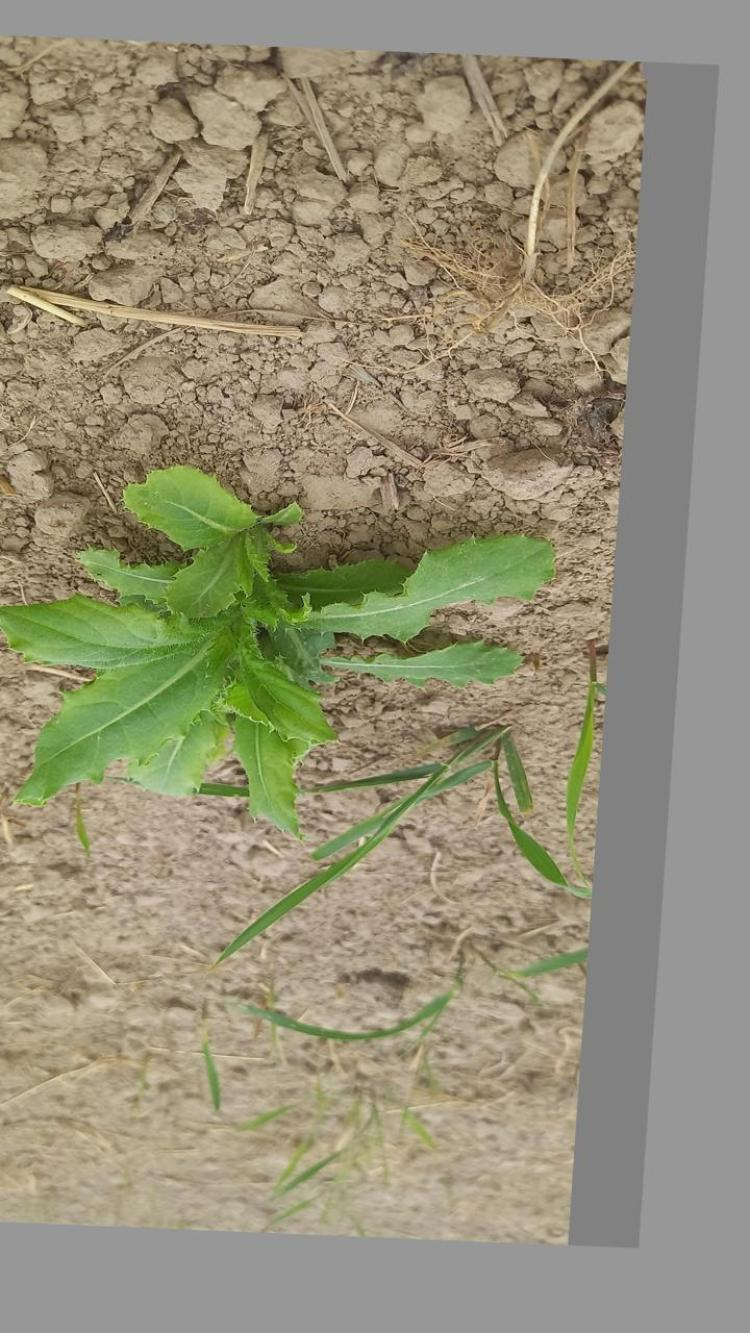bodyak: (6, 464, 560, 842)
